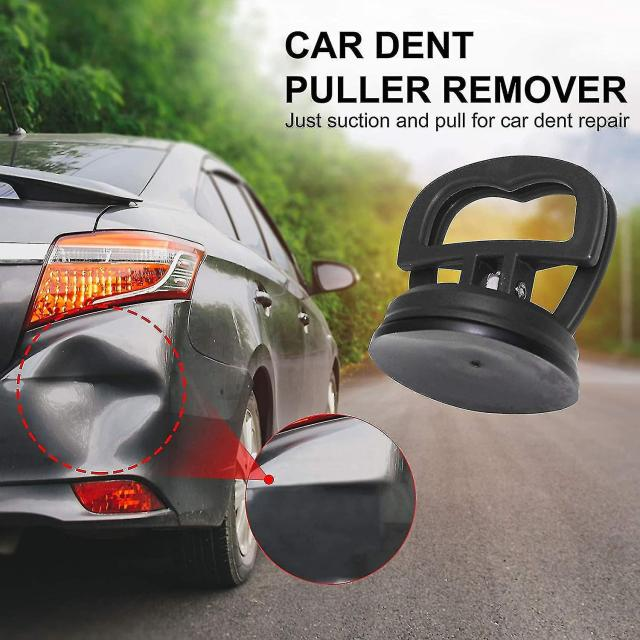dent: (28, 329, 161, 464)
